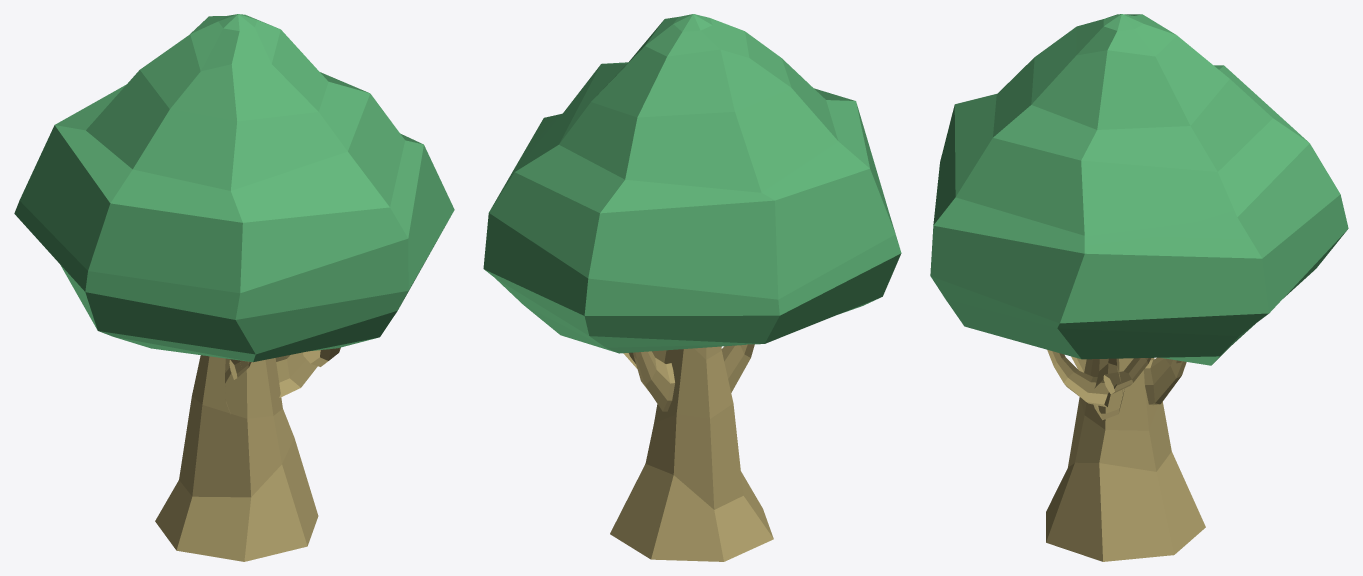
Rendered from tree1.glb.
The picture shows the model from 3 angles, left to right: view 1: azimuth 30°, elevation 25°; view 2: azimuth 150°, elevation 25°; view 3: azimuth 270°, elevation 25°; orthographic projection.
Parts seen in each view (by area): view 1: Mesh_0, Mesh_1; view 2: Mesh_0, Mesh_1; view 3: Mesh_0, Mesh_1.
Boxes of the visible parts, left/top/right/bottom form: Mesh_0: left=14, top=14, right=454, bottom=362; Mesh_1: left=155, top=347, right=340, bottom=561; Mesh_0: left=483, top=14, right=901, bottom=353; Mesh_1: left=610, top=344, right=773, bottom=561; Mesh_0: left=930, top=14, right=1348, bottom=365; Mesh_1: left=1046, top=349, right=1205, bottom=561.
Bounding box in the file's own units: 2.6 × 3.48 × 2.57.
